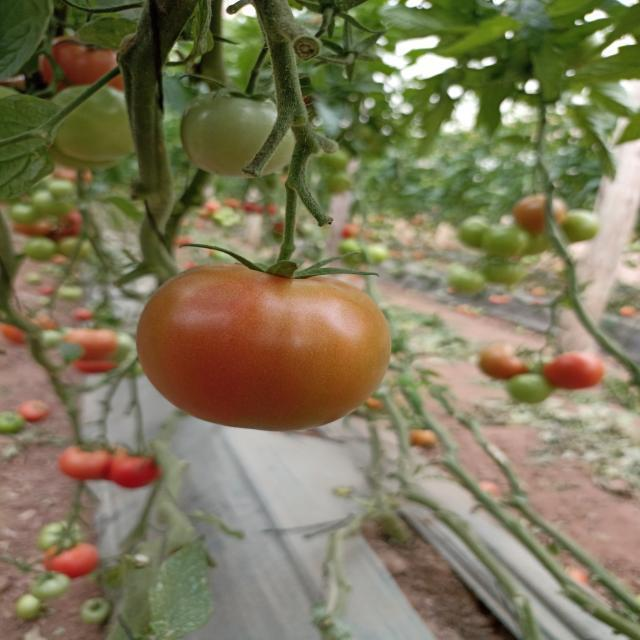Ripe Tomato: (132, 256, 396, 436), (41, 46, 129, 80), (506, 189, 564, 234), (104, 442, 158, 490), (542, 348, 610, 386), (56, 439, 112, 484), (64, 322, 122, 360), (471, 338, 528, 374), (42, 542, 102, 572), (402, 425, 441, 452), (52, 207, 84, 234), (0, 320, 32, 345), (18, 398, 52, 420)
Unripe Tomato: (172, 85, 304, 177), (49, 80, 140, 169), (480, 248, 530, 288), (507, 367, 558, 406), (482, 218, 530, 256), (444, 258, 486, 296), (448, 208, 490, 245), (558, 208, 604, 240), (312, 168, 363, 194), (40, 517, 86, 545), (516, 222, 558, 251), (80, 596, 118, 628), (26, 568, 72, 594), (358, 242, 394, 270), (12, 592, 42, 618), (334, 236, 362, 260), (28, 237, 56, 260), (46, 177, 76, 198), (317, 149, 350, 168), (0, 408, 20, 436), (12, 201, 31, 219)
